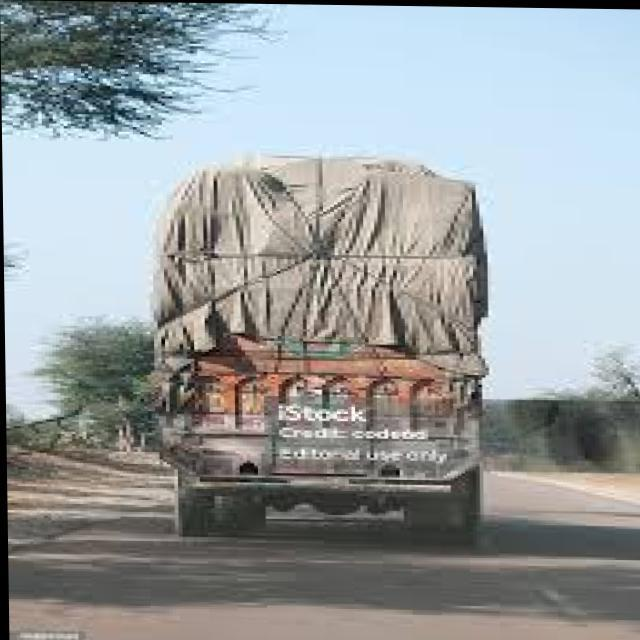covered: (140, 143, 503, 542)
